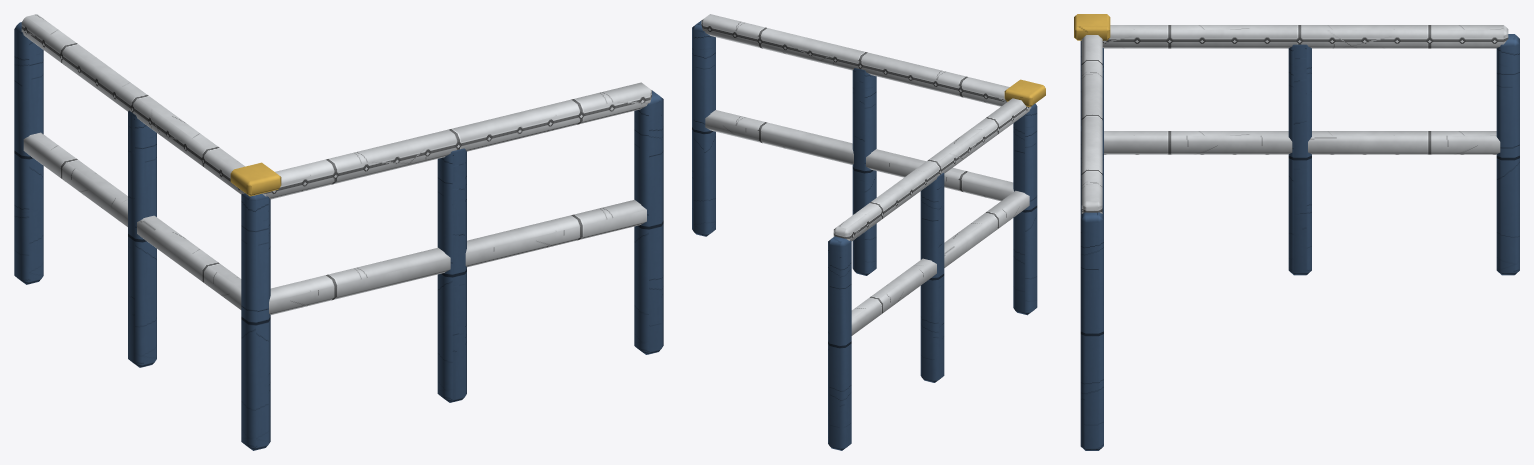
Rendered from railing_corner.glb.
3 views of the same model, side by side, from view 1: azimuth 30°, elevation 25°; view 2: azimuth 150°, elevation 25°; view 3: azimuth 270°, elevation 25° (orthographic). The views are drawn at different scales.
Parts seen in each view (by area): view 1: railing_corner_navy_frame, railing_corner_hull_offwhite, railing_corner_amber_accent; view 2: railing_corner_navy_frame, railing_corner_hull_offwhite, railing_corner_amber_accent; view 3: railing_corner_hull_offwhite, railing_corner_navy_frame, railing_corner_amber_accent.
Part boxes in pixels (x1,y1,x2,y2): railing_corner_navy_frame: [14, 22, 663, 450]; railing_corner_hull_offwhite: [21, 14, 651, 314]; railing_corner_amber_accent: [230, 162, 281, 196]; railing_corner_navy_frame: [692, 20, 1037, 450]; railing_corner_hull_offwhite: [701, 14, 1031, 335]; railing_corner_amber_accent: [1004, 79, 1045, 107]; railing_corner_hull_offwhite: [1081, 25, 1508, 213]; railing_corner_navy_frame: [1080, 34, 1519, 450]; railing_corner_amber_accent: [1074, 14, 1110, 40].
Size of the model in its own units: 1.72 by 1.07 by 1.72.
3 materials, 3 textured.
